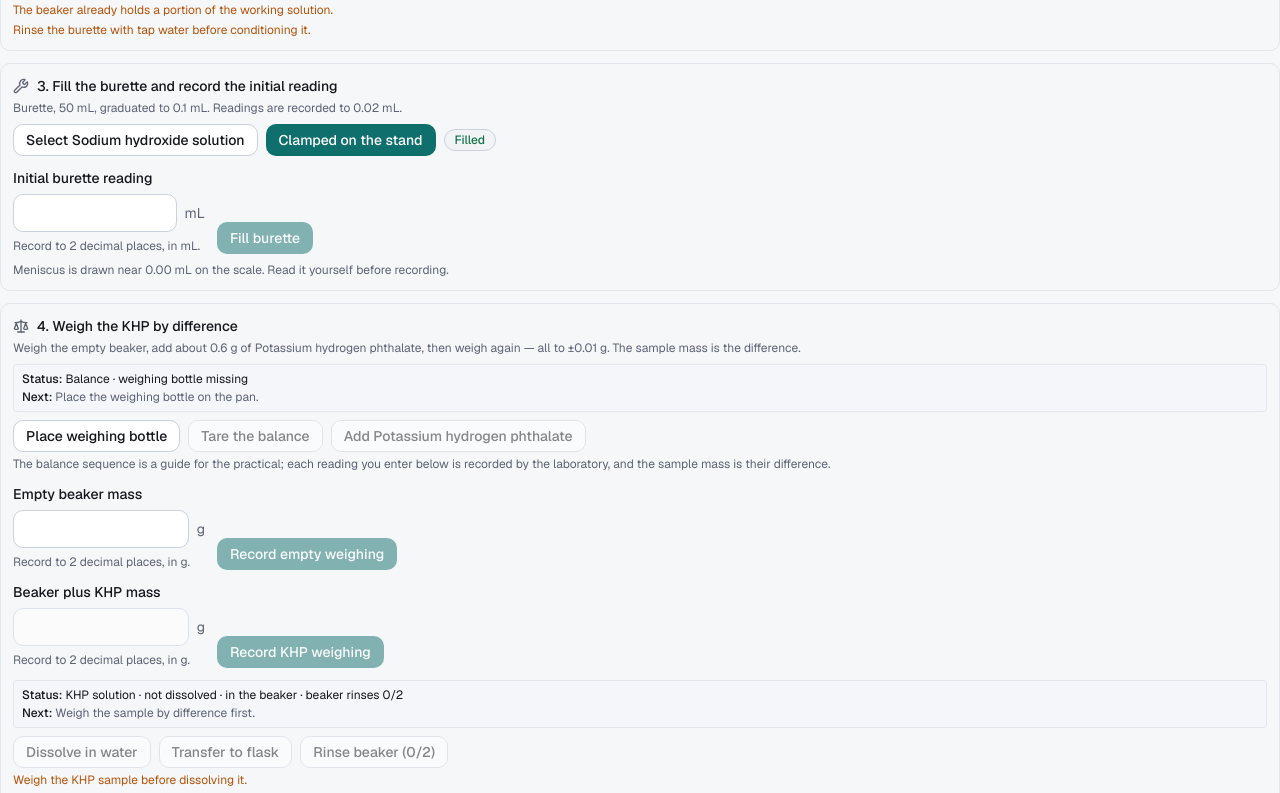
balance guided flow (jsdom) › sequences place, tare and add in order
(page scrolled)
Expected: the button "Tare the balance" is disabled, [188,420,323,452]
Expected: the button "Add Potassium hydrogen phthalate" is disabled, [331,420,586,452]
Click the button "Place weighing bottle" at (97, 436), box [13,420,180,452]
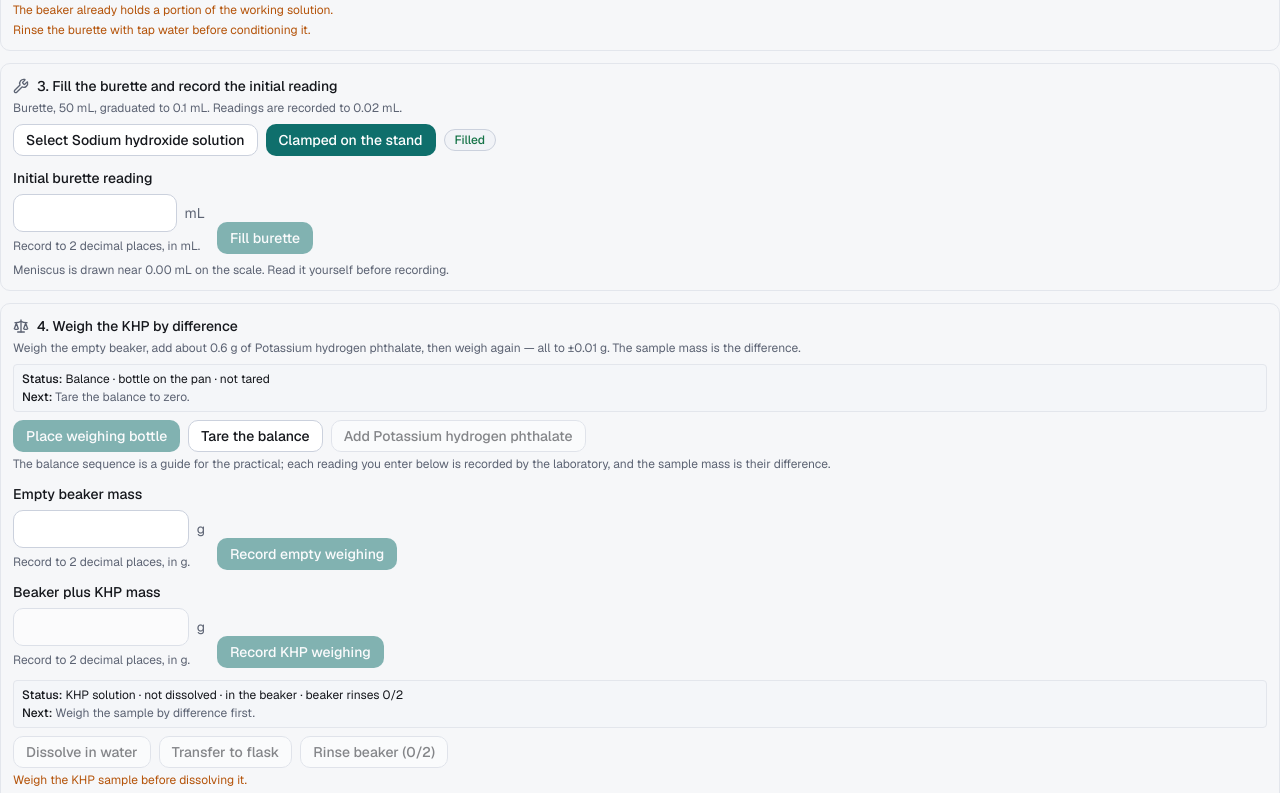
Result: the text "Status: Balance · bottle on the pan · not tared" is shown at [22,371,270,387]
Result: the text "Next: Tare the balance to zero." is shown at [22,389,189,405]
Result: the button "Tare the balance" is enabled
Click the button "Tare the balance" at (256, 436), box [188,420,323,452]
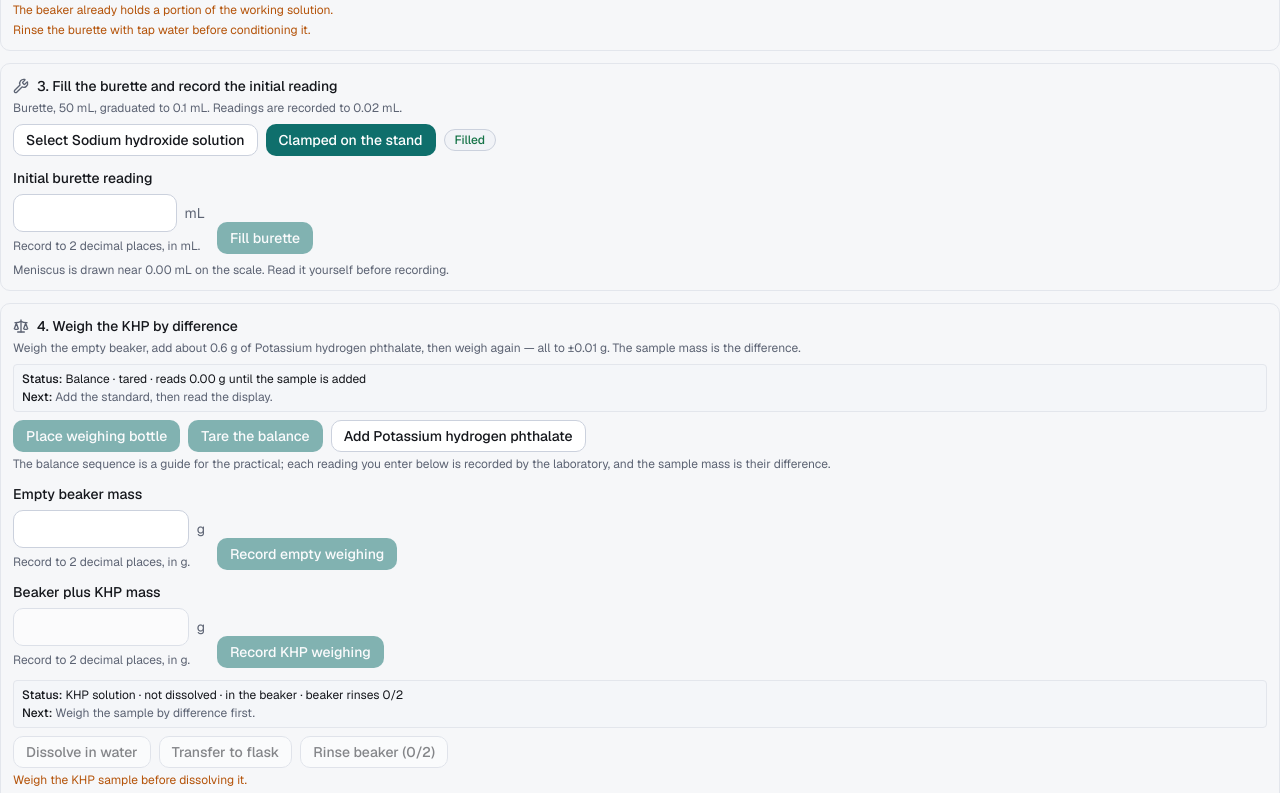
Result: the text "reads 0.00 g" is shown at [66,371,366,387]
Result: the button "Add Potassium hydrogen phthalate" is enabled
Click the button "Add Potassium hydrogen phthalate" at (458, 436), box [331,420,586,452]
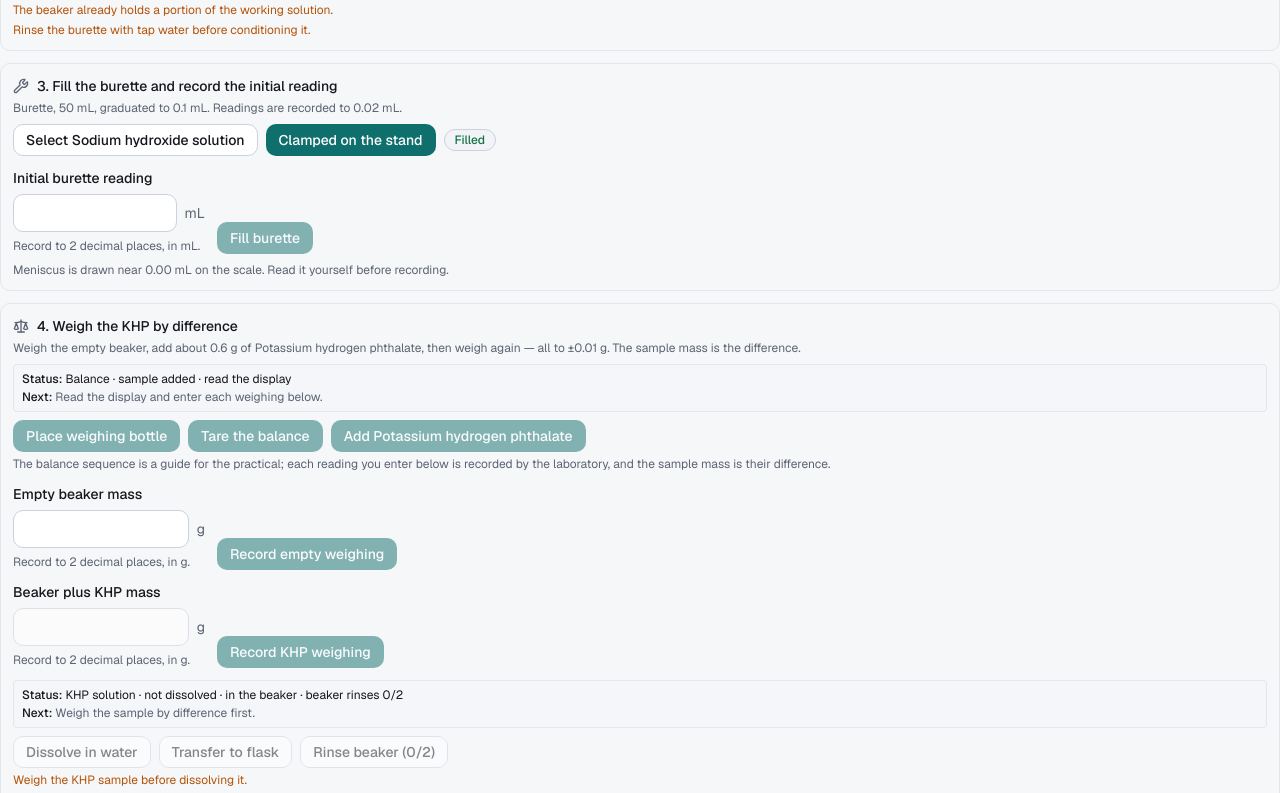
Result: the text "Status: Balance · sample added · read the display" is shown at [22,371,292,387]
Result: the text "Next: Read the display and enter each weighing below." is shown at [22,389,322,405]
